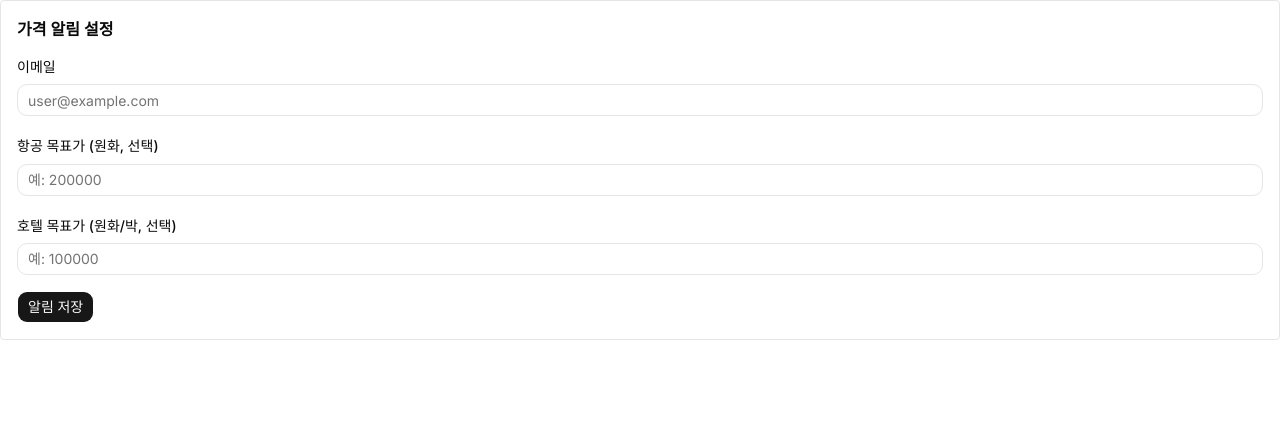
Test: AlertForm — validation › shows email error for 'abc'
Step 1. Type "abc" into the field named "이메일 주소" → (640, 100), box [17,84,1263,116]
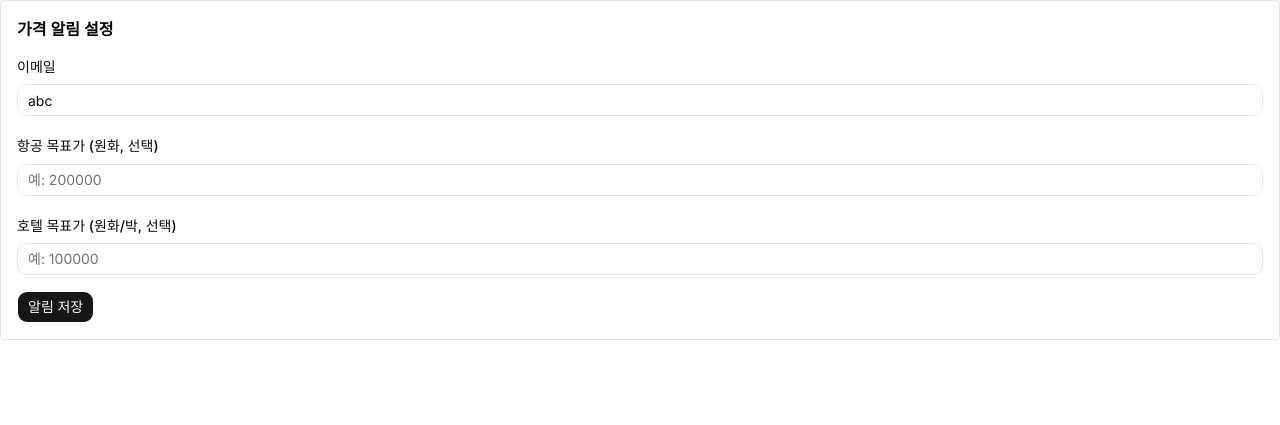
Step 2. Click the button "알림 저장" → (56, 307), box [17,291,94,323]
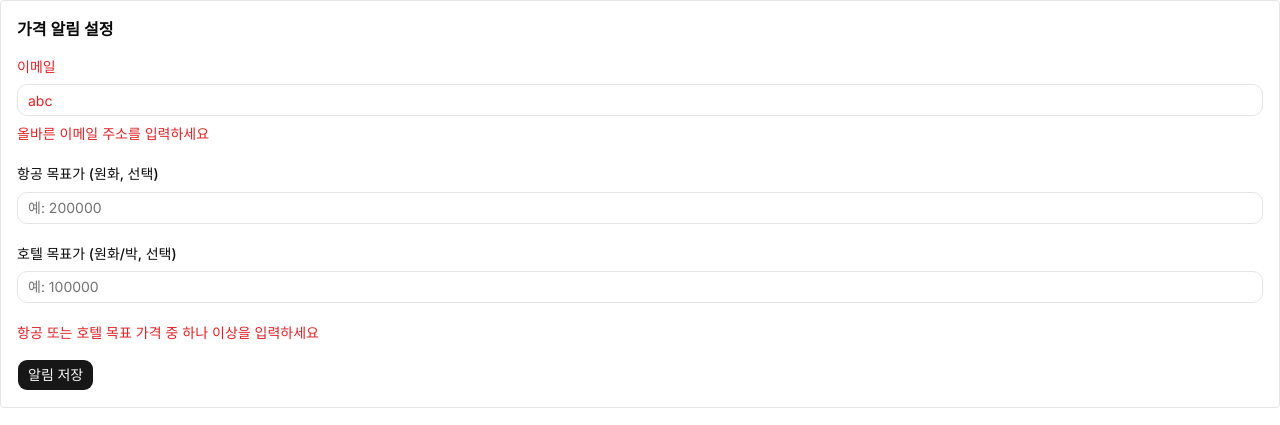
Result: the text "올바른 이메일 주소를 입력하세요" is shown at [17,125,209,142]
